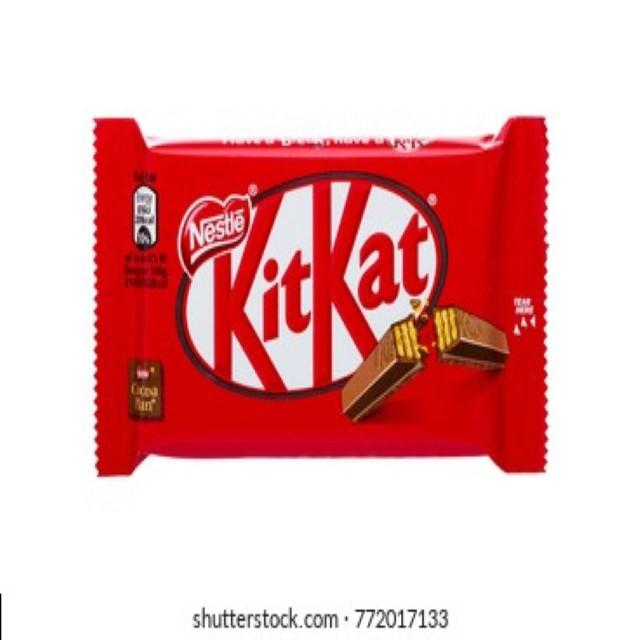kitkat_chocolate: (110, 113, 553, 490)
